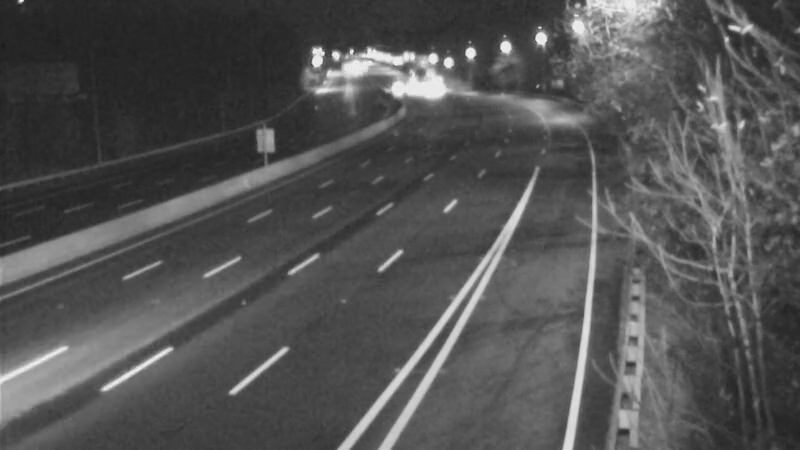vehicle: (400, 65, 450, 115), (363, 64, 413, 114)
